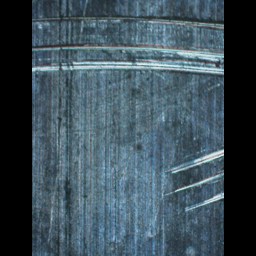d: (31, 12, 223, 82), (158, 140, 223, 225)
